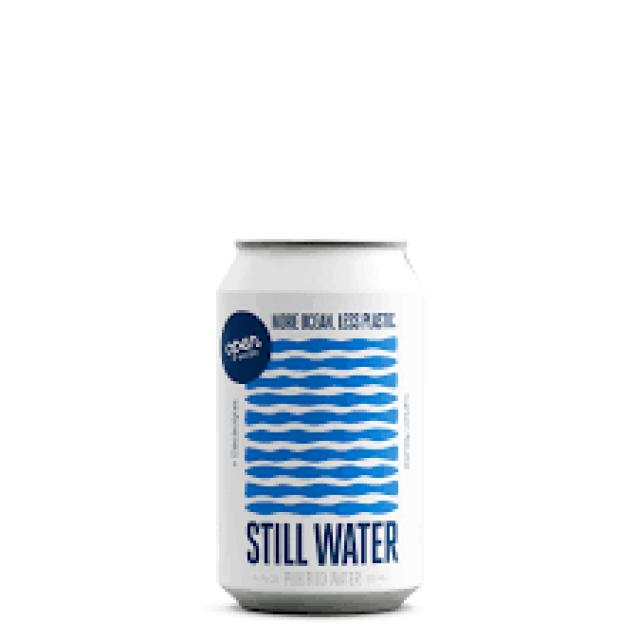Cans: (205, 230, 444, 618)
